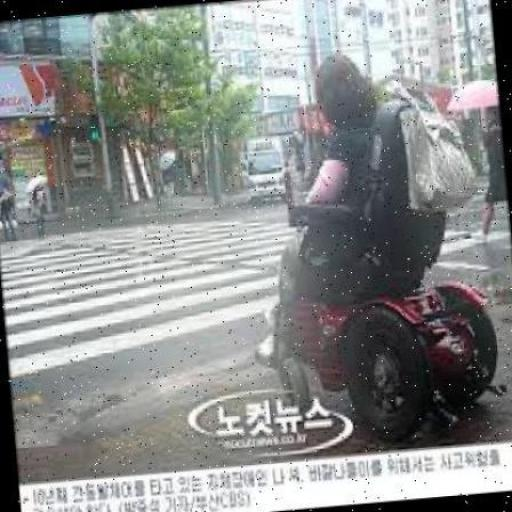person: (29, 181, 48, 241)
